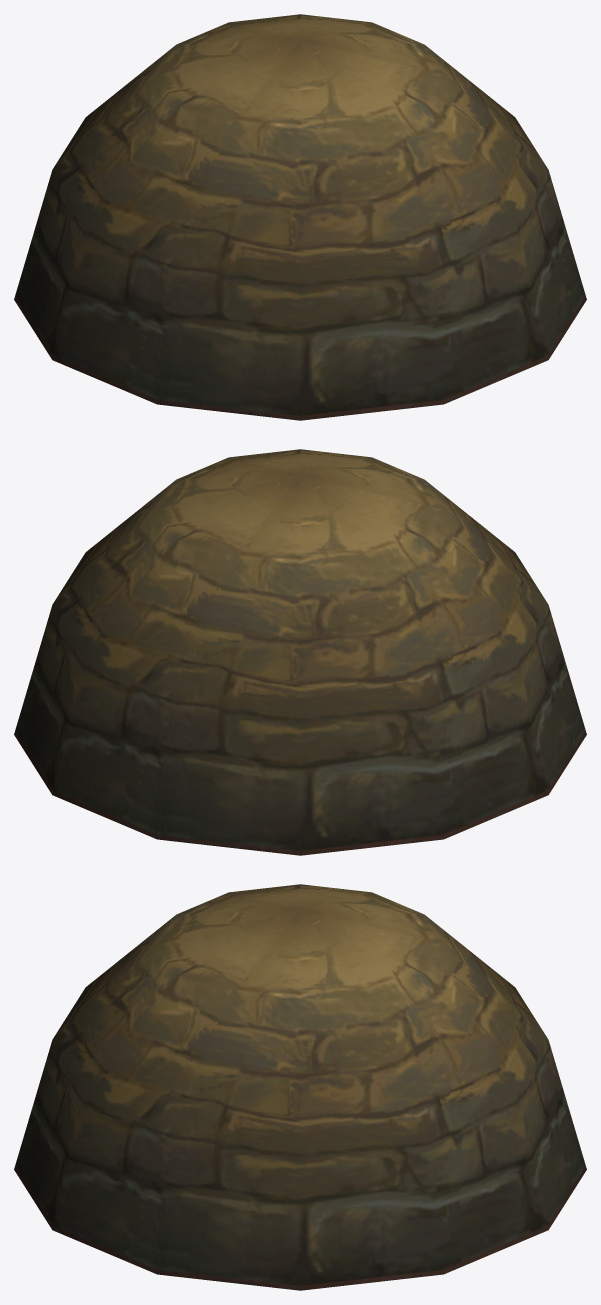
Rendered from environment_common_fenbao_001_a.FBX.
3 views of the same model, one above another, from view 1: azimuth 30°, elevation 25°; view 2: azimuth 150°, elevation 25°; view 3: azimuth 270°, elevation 25° (orthographic).
Visible parts, largest first — view 1: environment_common_fenbao_001_a; view 2: environment_common_fenbao_001_a; view 3: environment_common_fenbao_001_a.
Part boxes in pixels (left/top/right/bottom): environment_common_fenbao_001_a: left=14, top=14, right=586, bottom=420; environment_common_fenbao_001_a: left=14, top=449, right=586, bottom=855; environment_common_fenbao_001_a: left=14, top=884, right=586, bottom=1290.
Bounding box in the file's own units: 524 × 262 × 524.
